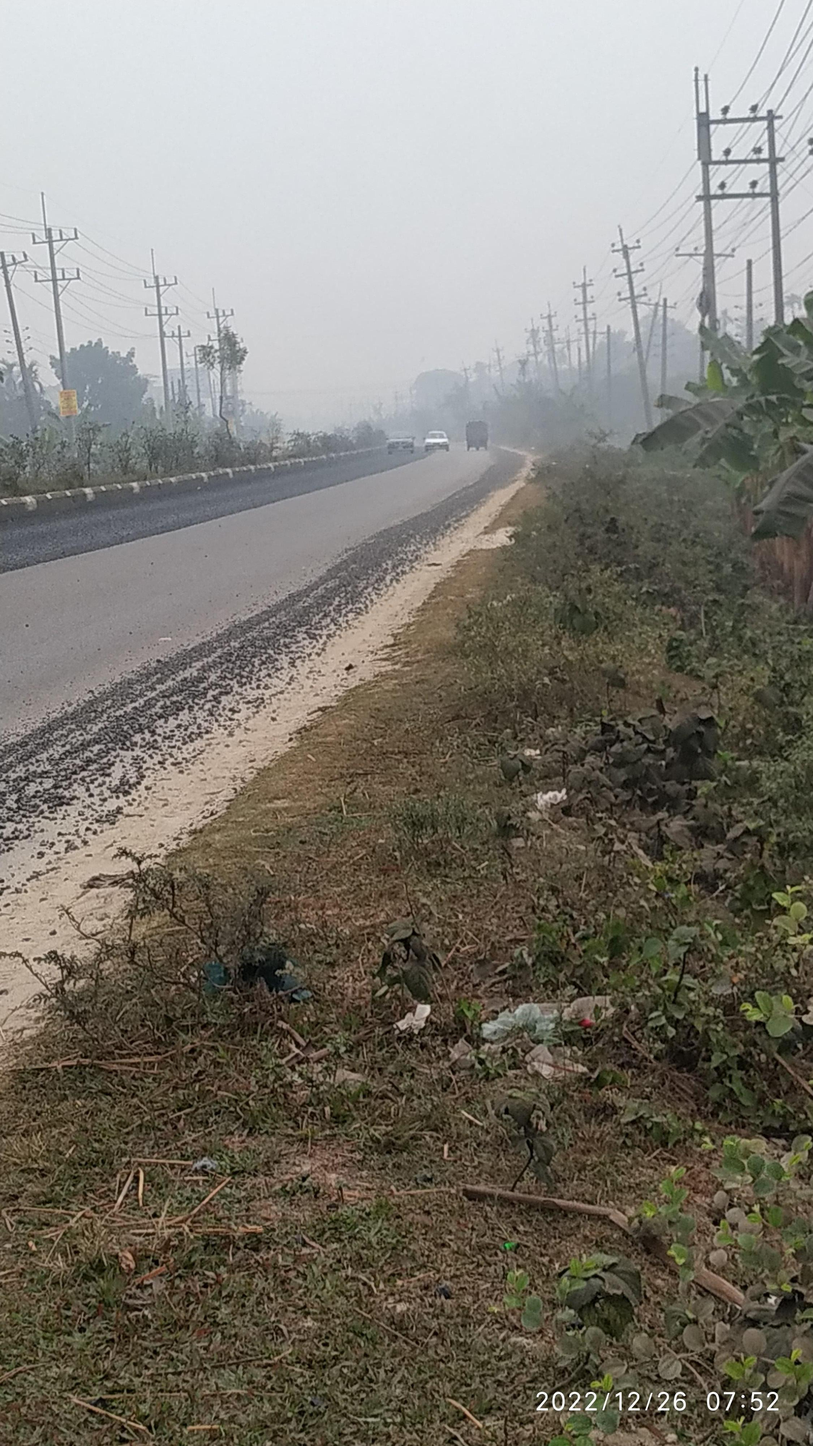Car: (417, 412, 462, 470), (376, 414, 423, 464)
